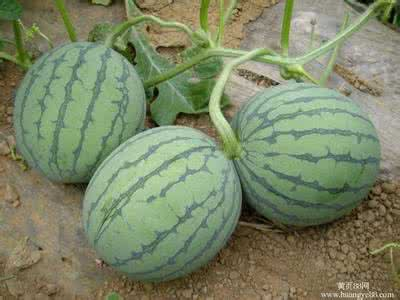watermelon: (214, 83, 387, 222), (86, 123, 238, 274), (15, 36, 142, 179)
